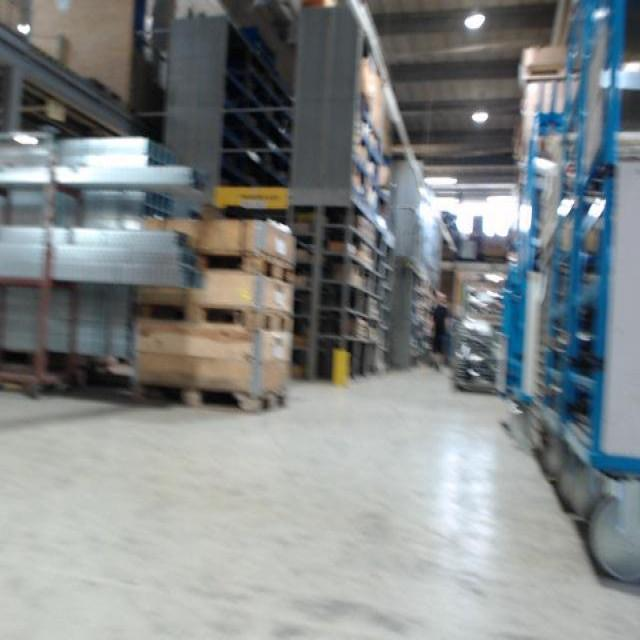pallet: (133, 377, 289, 416), (136, 299, 294, 335), (193, 242, 296, 285), (517, 63, 567, 85)
stillage: (447, 325, 511, 405)
